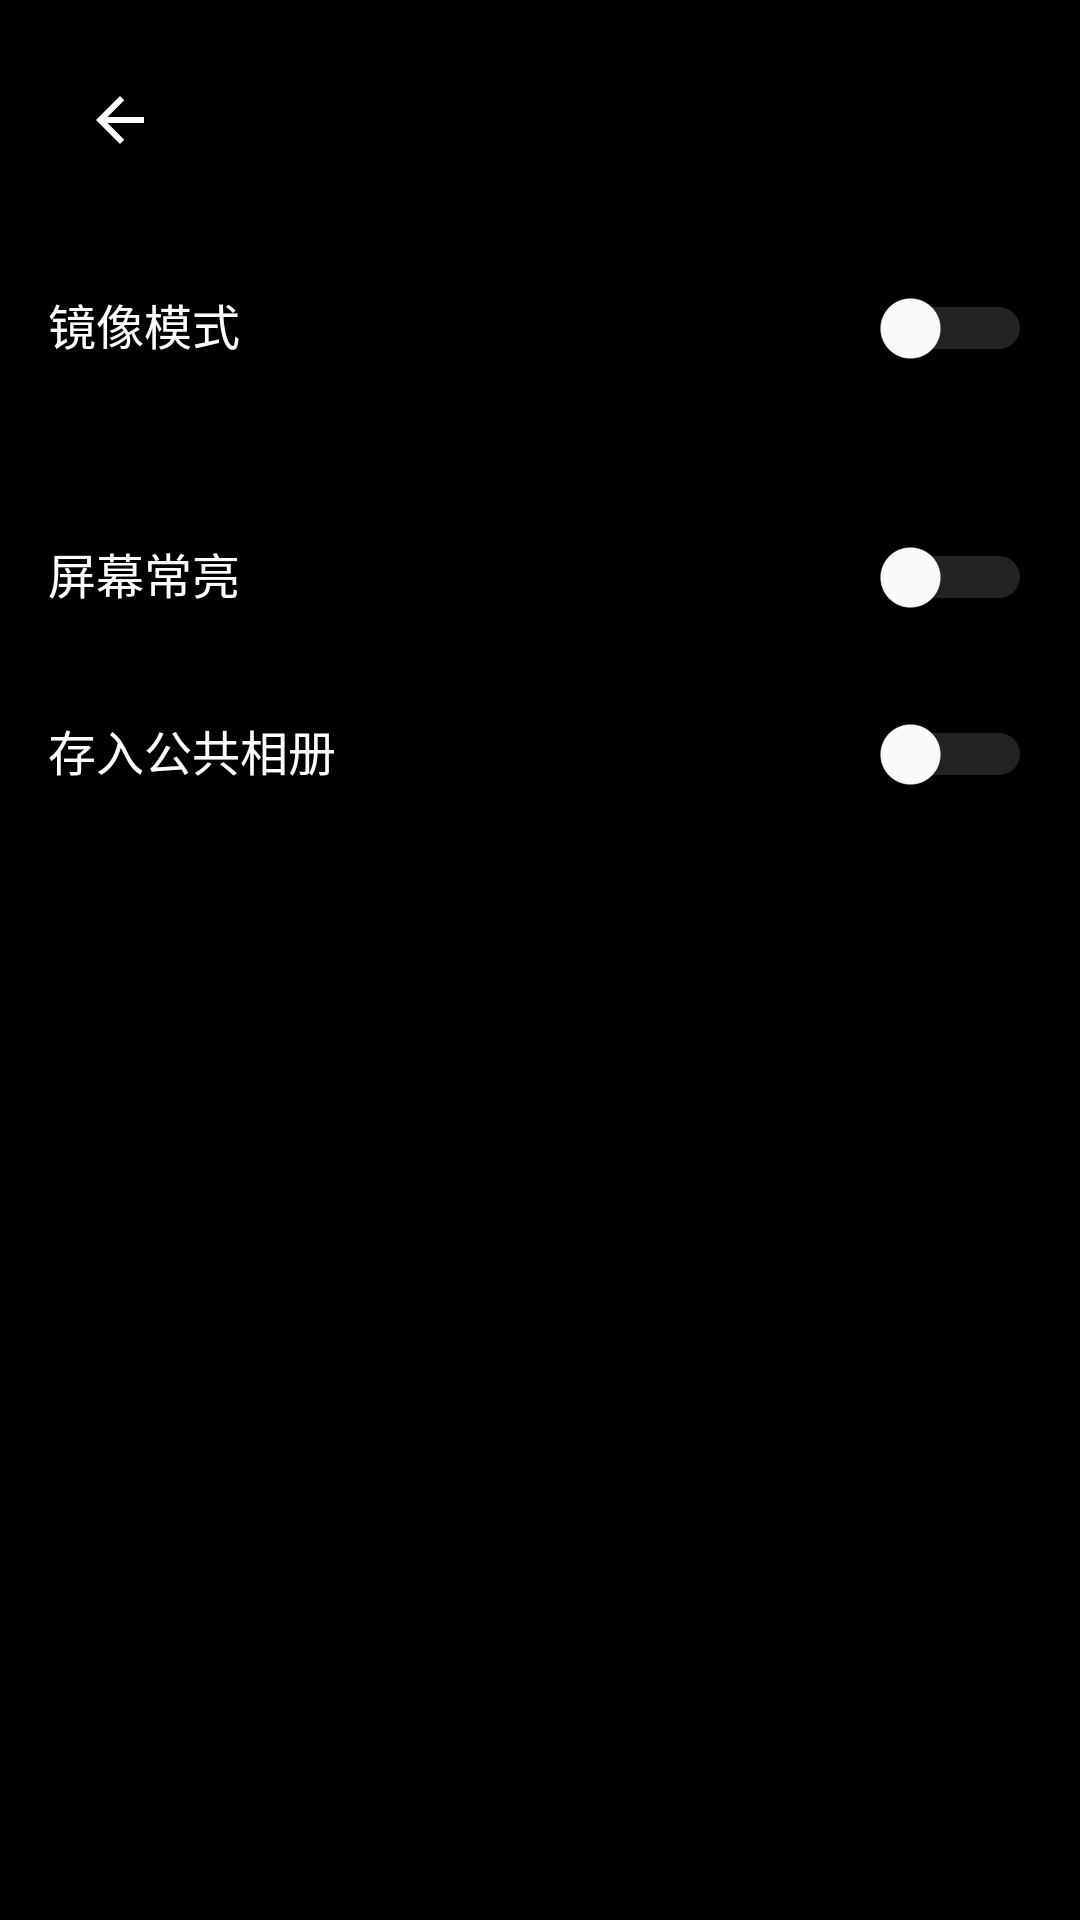

Where to tap for icons on this 1080w x 1920h app screen, as (x=x, y=y):
返回: (x=120, y=120)
